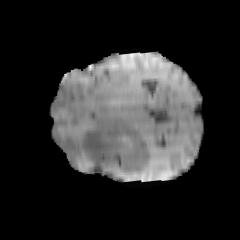glioma: (80, 121, 151, 173)
